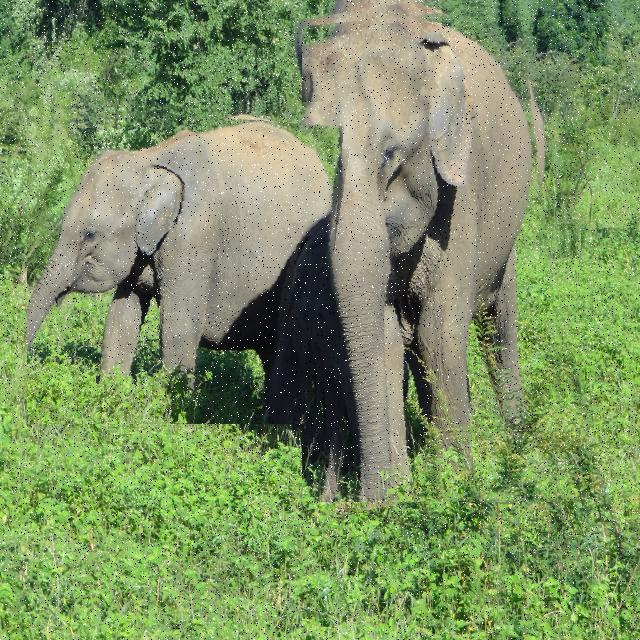elephant: (302, 0, 575, 502), (27, 100, 346, 424)
